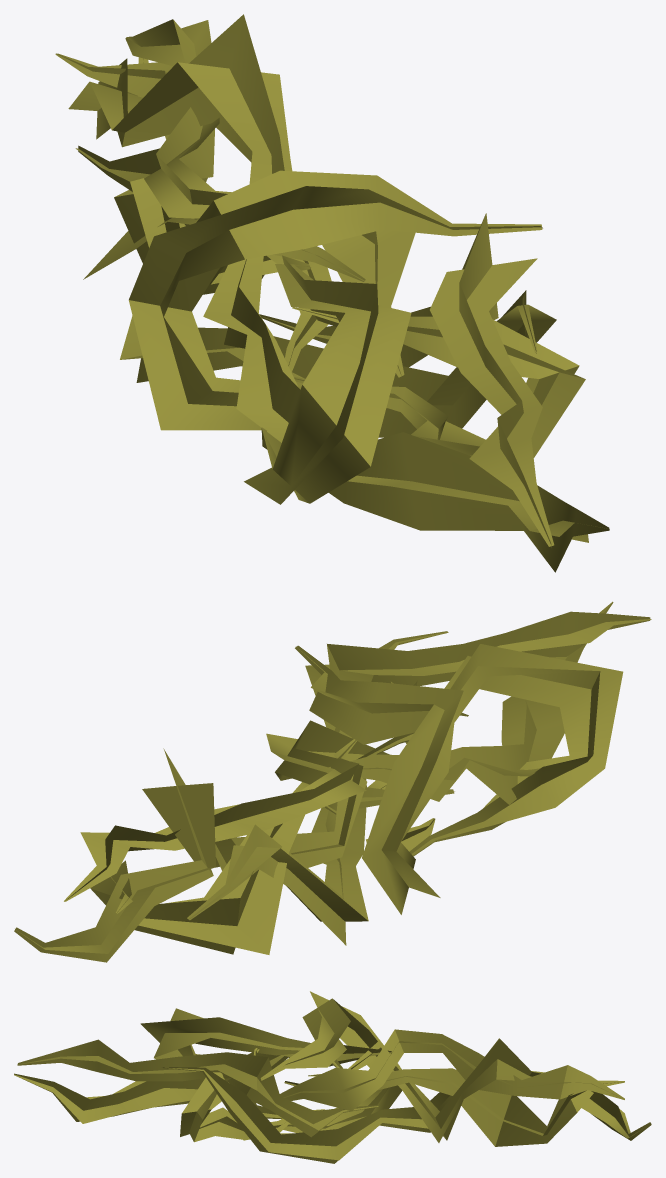
File: etc_gargoyle_weapon_aura_double_elec_eff.glb
The picture shows the model from 3 angles, top to bottom: view 1: azimuth 30°, elevation 25°; view 2: azimuth 150°, elevation 25°; view 3: azimuth 270°, elevation 25°; orthographic projection. The views are drawn at different scales.
Size of the model in its own units: 0.6506 by 0.5225 by 2.11.
